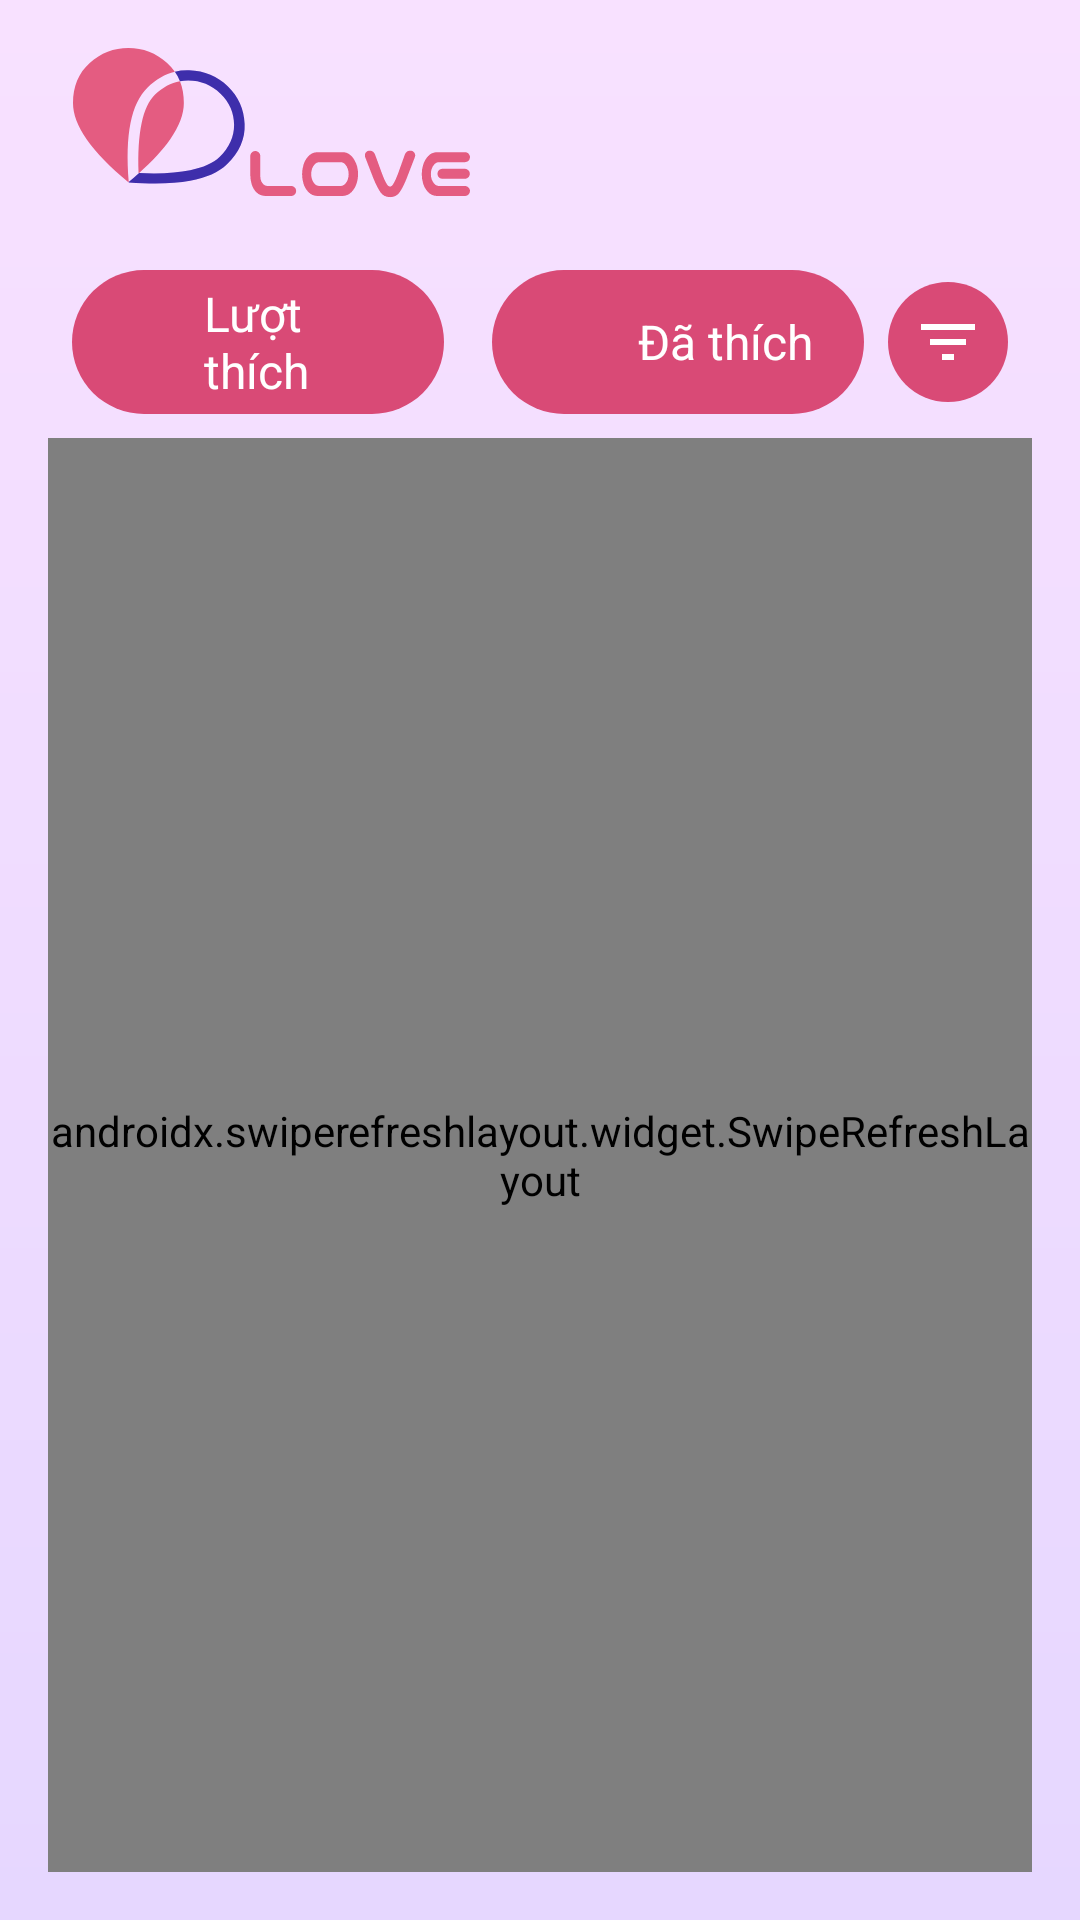

Named icons in this screenshot (1080px×1920px) and their centers, (x,y):
filter: (948,342)
